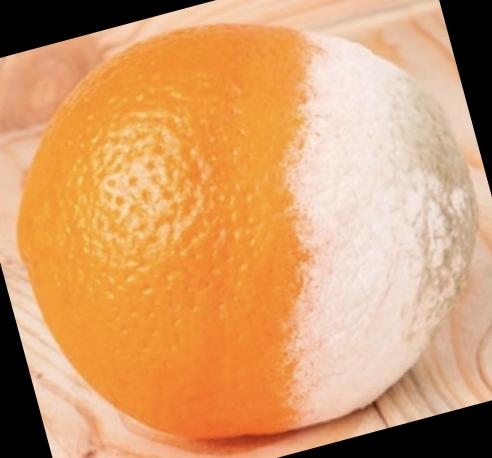Orange Rotten: (12, 19, 479, 458)
